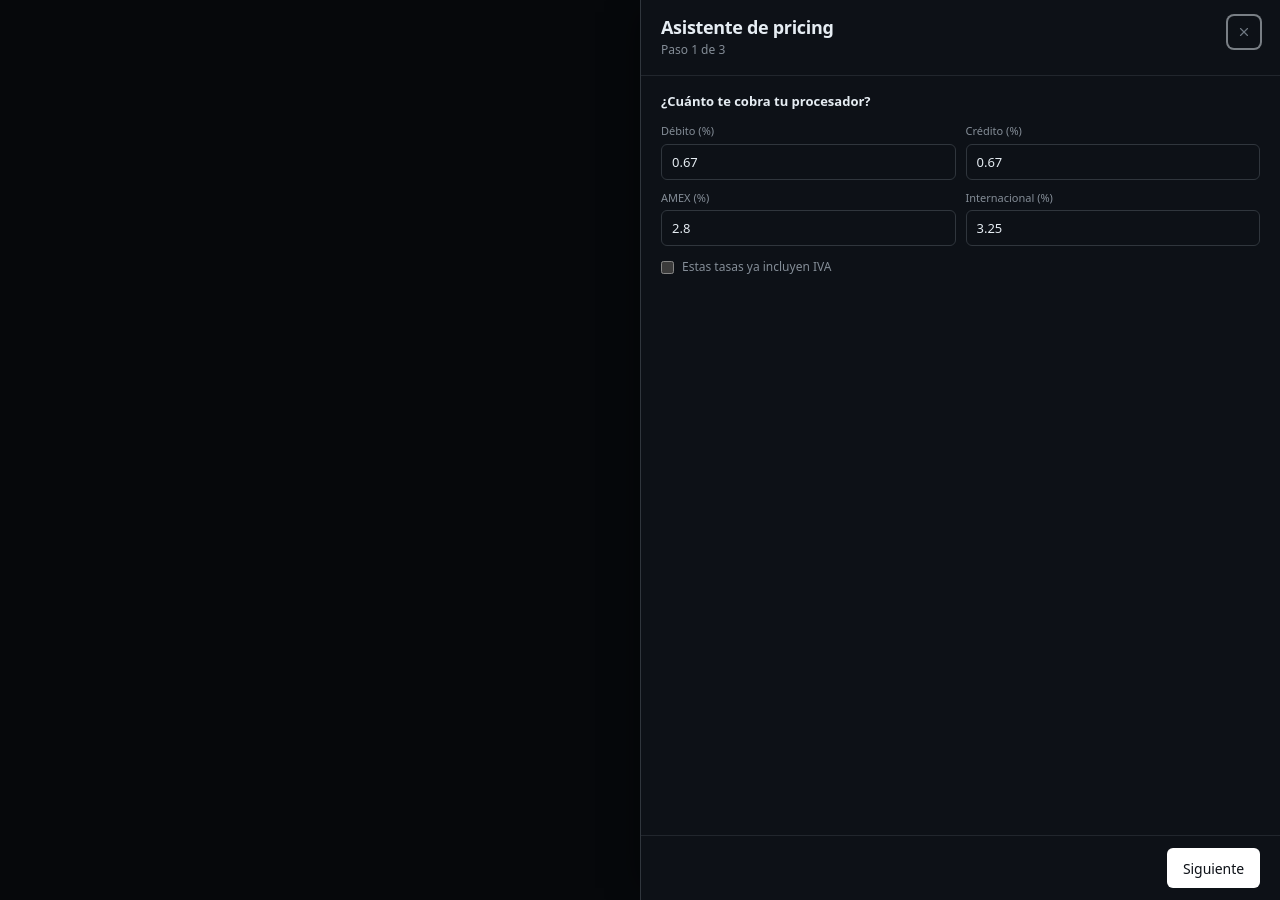
Test: PricingWizardDrawer › el venue destino también se siembra al abrir (los venues llegan después de montar)
Click the button "Siguiente".
click(1214, 868)  # box [1167, 848, 1260, 888]
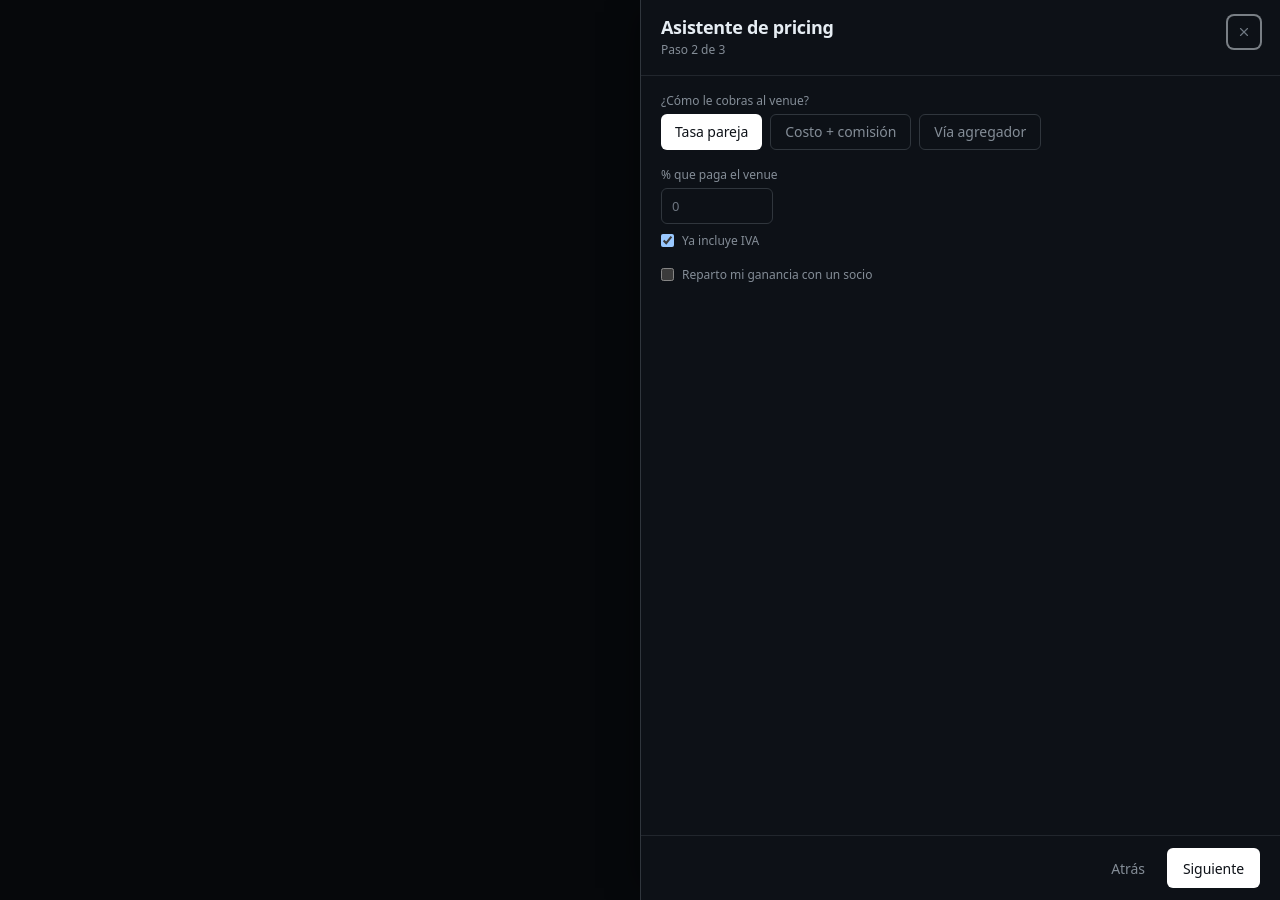
Click the button "Siguiente".
click(1214, 868)  # box [1167, 848, 1260, 888]
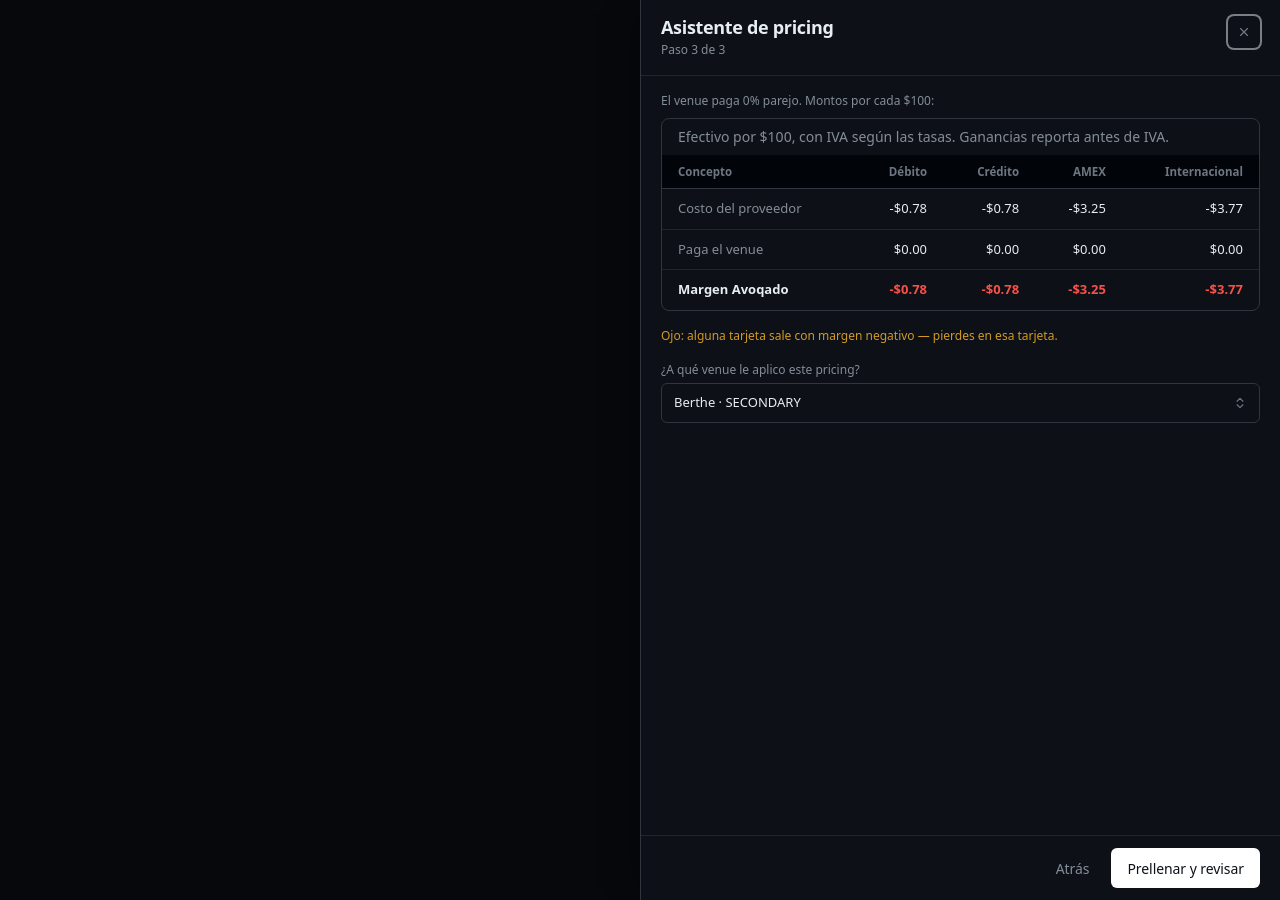
Check: the button "Prellenar y revisar" is enabled, box [1111, 848, 1260, 888]
Check: the button with aria-label "Venue destino" shows "Berthe", box [661, 383, 1260, 423]
